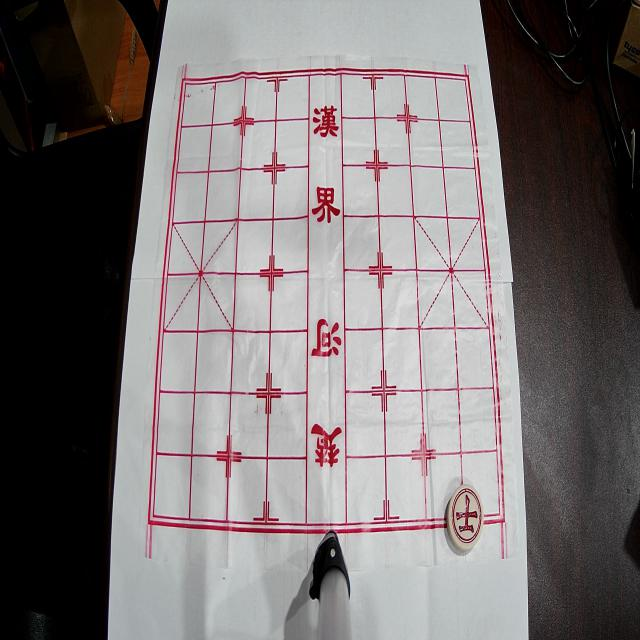red-guard: (446, 484, 484, 551)
